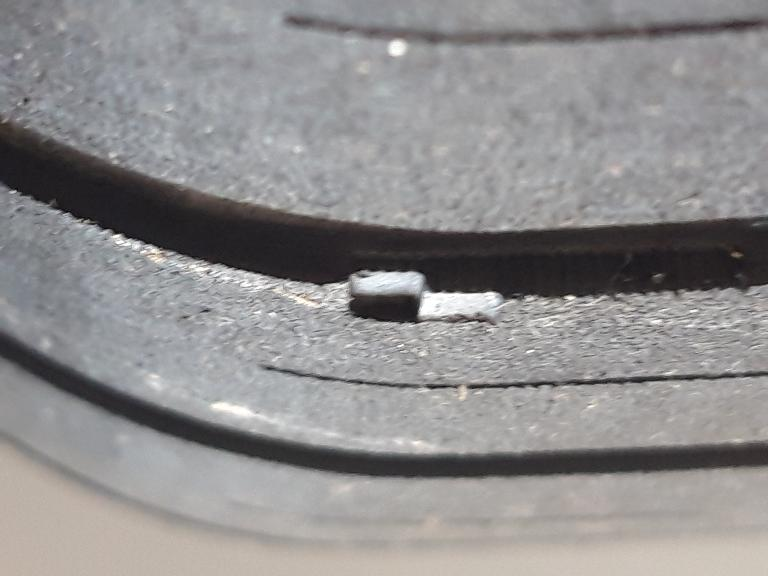temoin:25: (331, 248, 518, 340)
